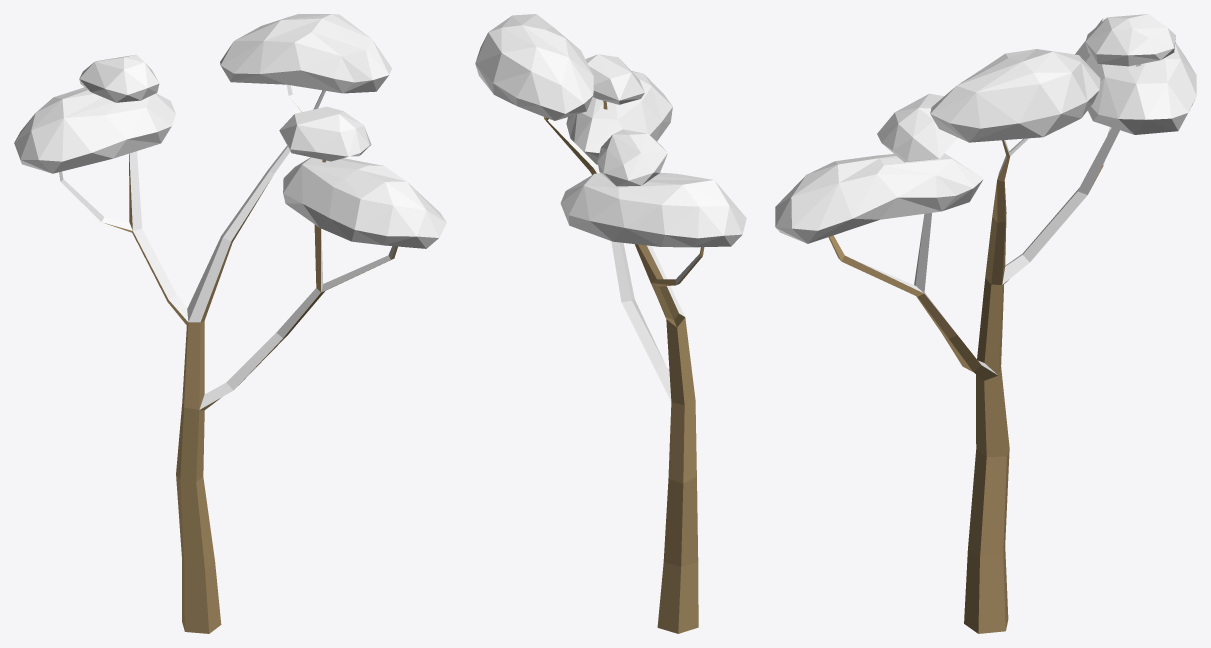
Rendered from Acacia_Tree_l_Snow_05.fbx.
3 views of the same model, side by side, from view 1: azimuth 30°, elevation 25°; view 2: azimuth 150°, elevation 25°; view 3: azimuth 270°, elevation 25° (orthographic). The views are drawn at different scales.
Visible parts, largest first — view 1: Acacia_Tree_l_Snow_05; view 2: Acacia_Tree_l_Snow_05; view 3: Acacia_Tree_l_Snow_05.
Part boxes in pixels (x1,y1,x2,y2): Acacia_Tree_l_Snow_05: [14, 14, 446, 633]; Acacia_Tree_l_Snow_05: [475, 14, 746, 633]; Acacia_Tree_l_Snow_05: [775, 14, 1196, 633].
Bounding box in the file's own units: 606 × 1079 × 645.
